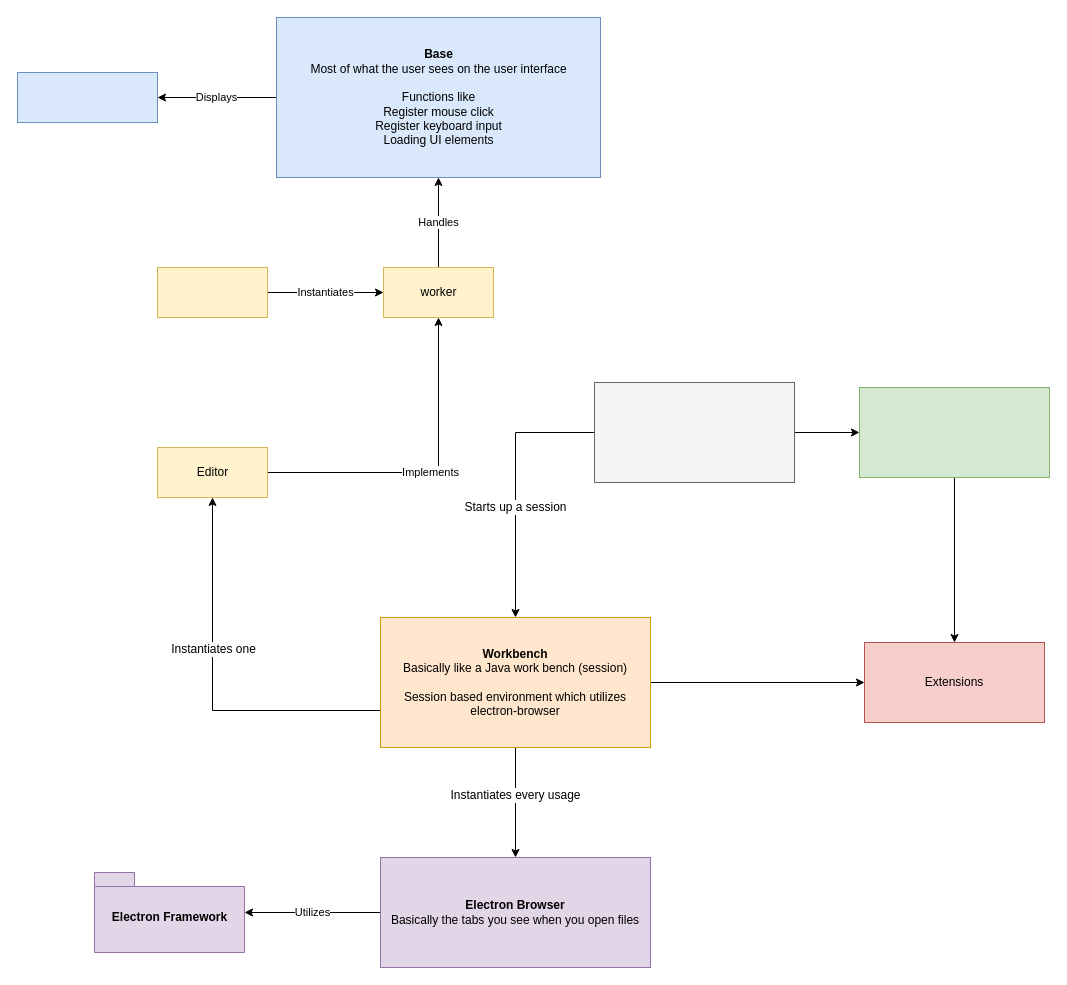
Some shapes in this 1067 by 985 pixel diagram are drawn without their labels. Here are the shapes that lost their labels. From the top down, the box of each, then its label:
(16, 72, 158, 122): FrontEnd
(156, 266, 268, 318): workerFactory
(594, 382, 794, 482): Code Integrates everything
(858, 386, 1050, 478): Platform Provides a lot of the services used Like a desktop app
